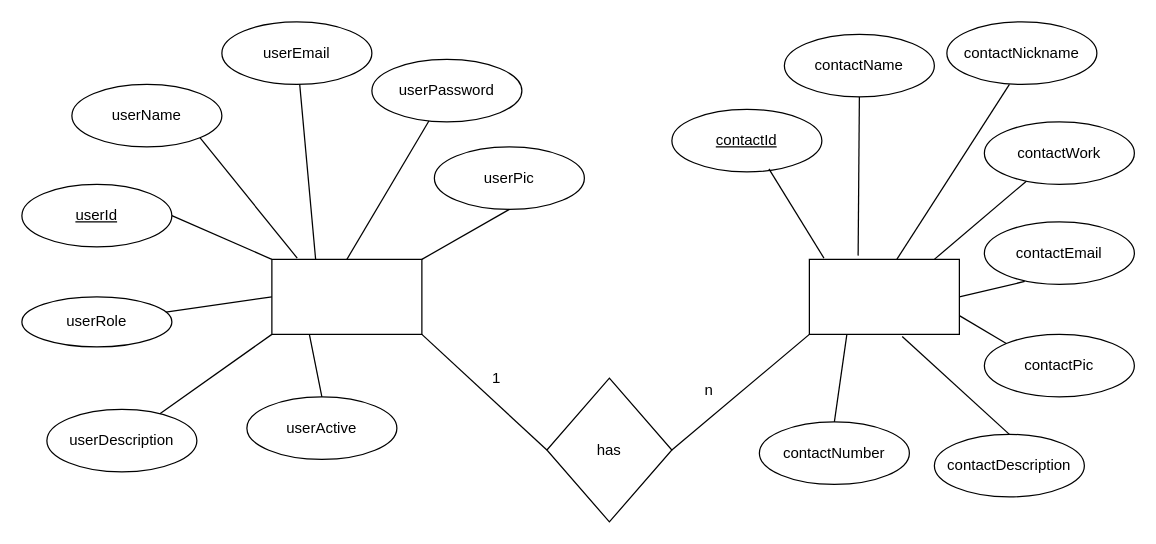
Image size: 1156x544. Some labels were removed from this diagram. Here are the shapes that lost their labels. From the top down, the box of each, then its label:
(271, 258, 422, 334): USER
(808, 258, 959, 334): CONTACT
